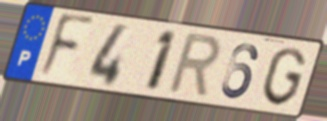1: (146, 28, 178, 95)
4: (87, 21, 127, 90)
6: (221, 42, 260, 101)
F: (35, 11, 98, 82)
G: (259, 46, 309, 109)
R: (163, 31, 224, 101)
